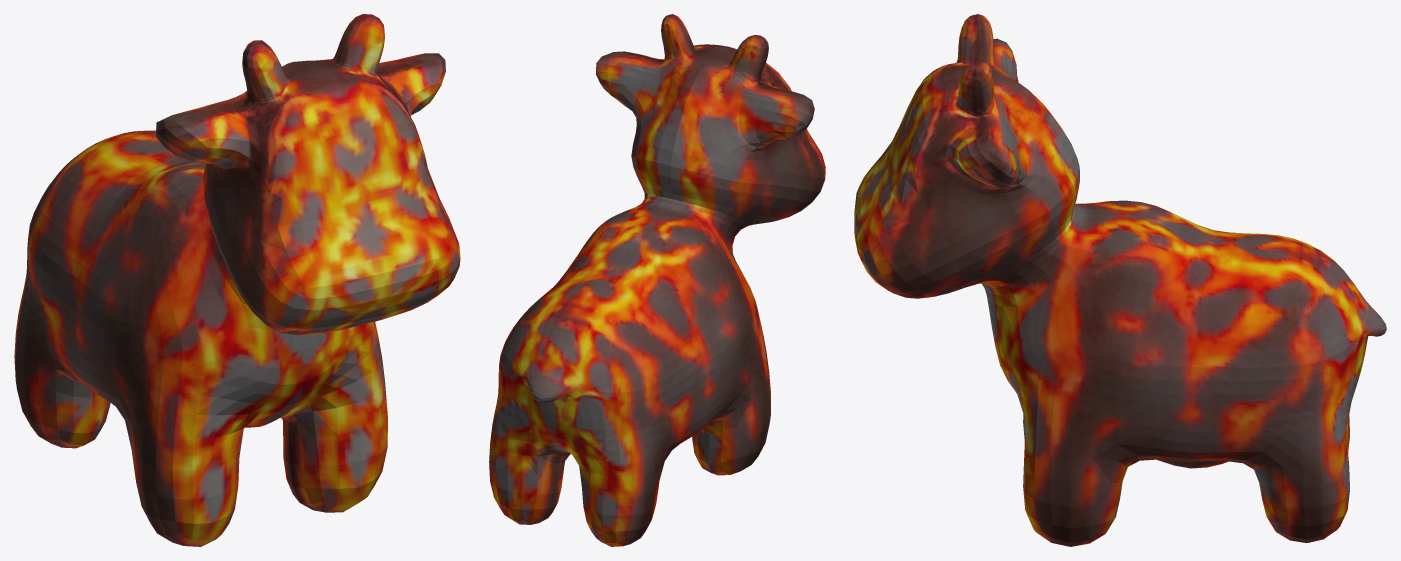
Rendered from ours_t4.glb.
3 views of the same model, side by side, from view 1: azimuth 30°, elevation 25°; view 2: azimuth 150°, elevation 25°; view 3: azimuth 270°, elevation 25° (orthographic). The views are drawn at different scales.
Parts seen in each view (by area): view 1: world; view 2: world; view 3: world.
Boxes of the visible parts, left/top/right/bottom form: world: left=14, top=14, right=460, bottom=546; world: left=489, top=14, right=825, bottom=546; world: left=854, top=14, right=1386, bottom=546.
Bounding box in the file's own units: 0.549 × 0.984 × 1.
